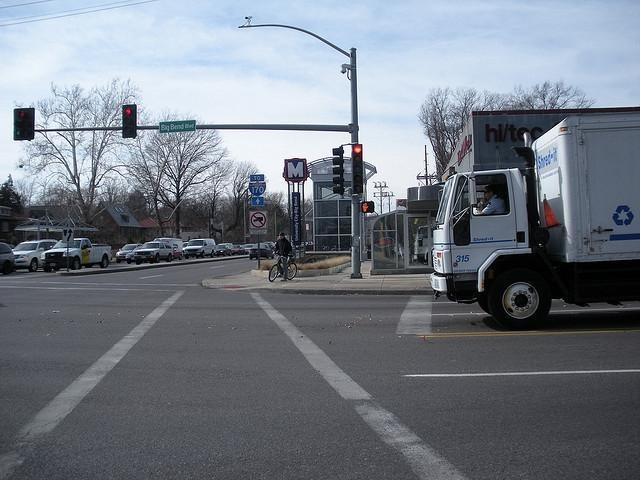bicycle: (269, 253, 298, 282)
car: (12, 238, 59, 272), (184, 238, 217, 259), (115, 243, 142, 264), (249, 242, 276, 260), (1, 243, 16, 274), (92, 244, 114, 260), (214, 245, 232, 257), (231, 245, 246, 256), (245, 244, 255, 253), (182, 242, 188, 253)
truck: (424, 120, 640, 328), (41, 236, 114, 273), (134, 241, 172, 265)
